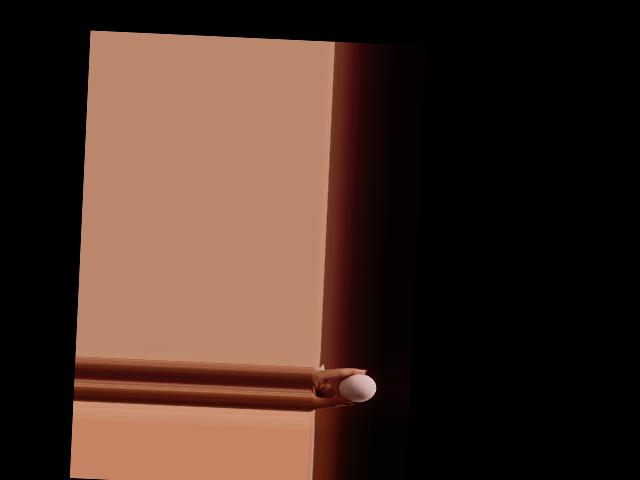egg: (337, 373, 376, 403)
